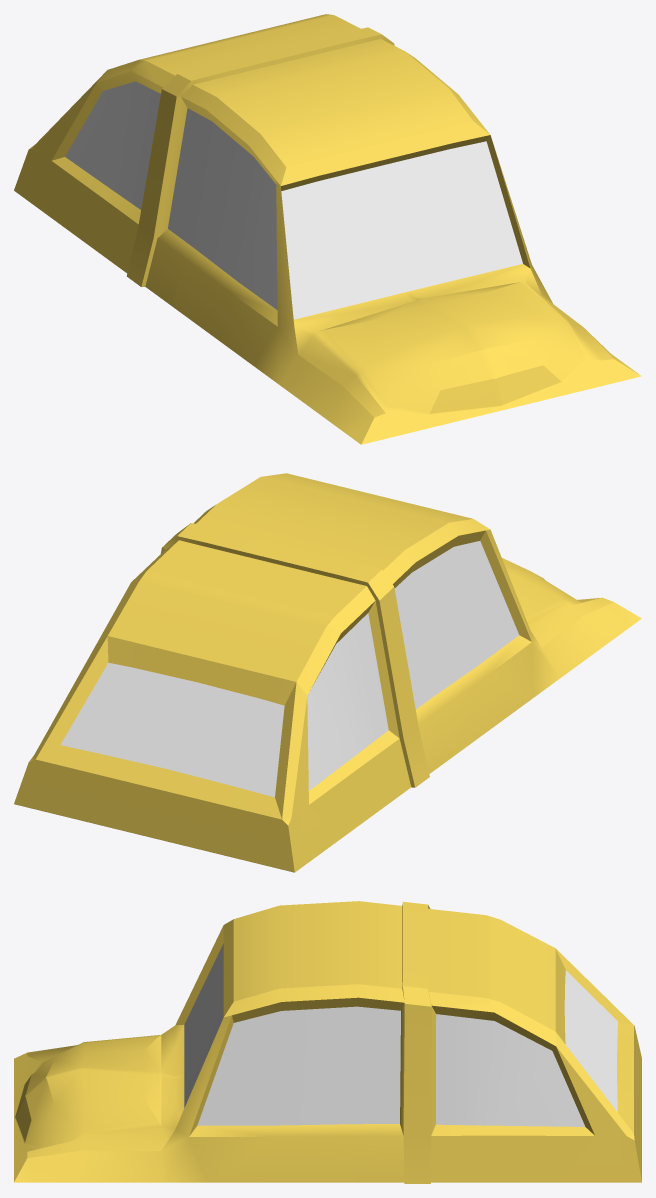
The model's file is VINTAGE-TOP--0N4ydRT.glb.
3 views of the same model, one above another, from view 1: azimuth 30°, elevation 25°; view 2: azimuth 150°, elevation 25°; view 3: azimuth 270°, elevation 25° (orthographic). The views are drawn at different scales.
Bounding box in the file's own units: 1.54 × 1.01 × 3.21.
Materials: 2 (2 with a texture image).
